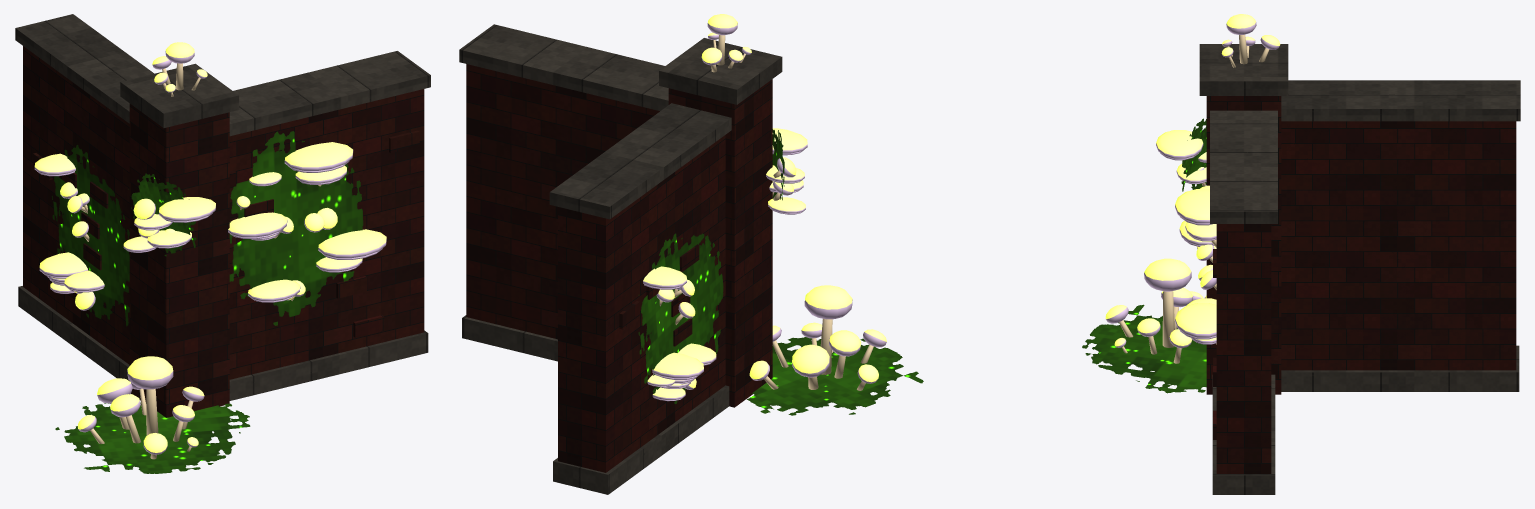
Rendered from pilz_mauerecke.glb.
The picture shows the model from 3 angles, left to right: view 1: azimuth 30°, elevation 25°; view 2: azimuth 150°, elevation 25°; view 3: azimuth 270°, elevation 25°; orthographic projection. The views are drawn at different scales.
Parts seen in each view (by area): view 1: pilz_mauerecke; view 2: pilz_mauerecke; view 3: pilz_mauerecke.
Part boxes in pixels (x1,y1,x2,y2): pilz_mauerecke: (15, 14, 430, 473); pilz_mauerecke: (459, 14, 923, 494); pilz_mauerecke: (1082, 14, 1520, 494).
Bounding box in the file's own units: 3.67 × 2.98 × 3.67.
Materials: 6 (3 with a texture image).
